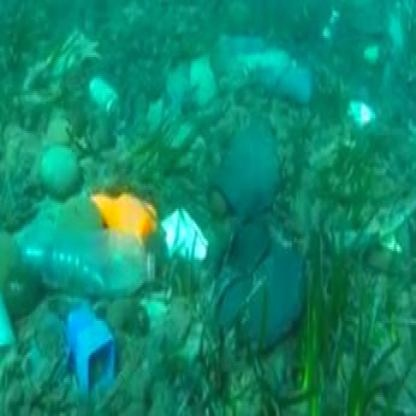misc: (212, 188, 324, 357)
pbottle: (14, 218, 164, 304)
